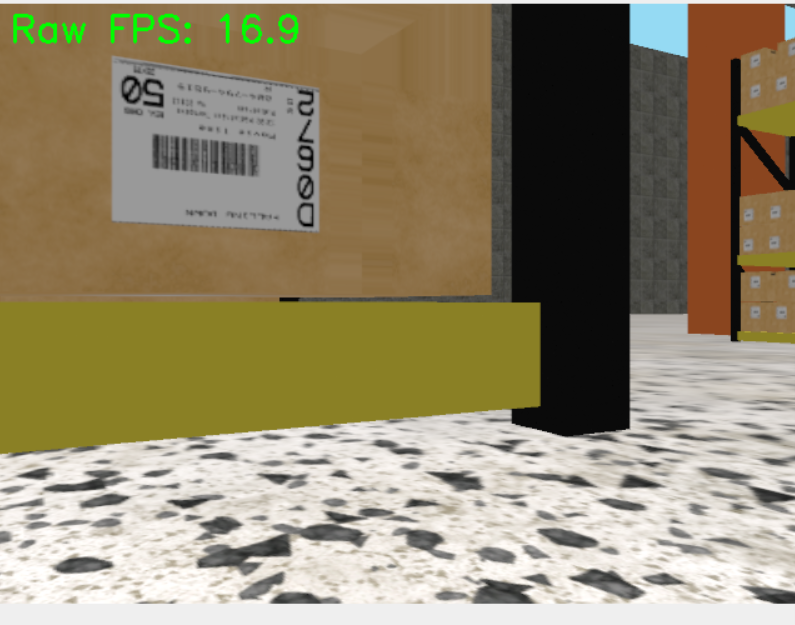barcode: (105, 51, 322, 235), (774, 304, 789, 321), (749, 303, 762, 320), (742, 208, 754, 223), (751, 275, 762, 289), (768, 236, 779, 250), (743, 238, 753, 253), (770, 206, 780, 220), (778, 77, 788, 90), (752, 55, 760, 68), (752, 85, 760, 97)
